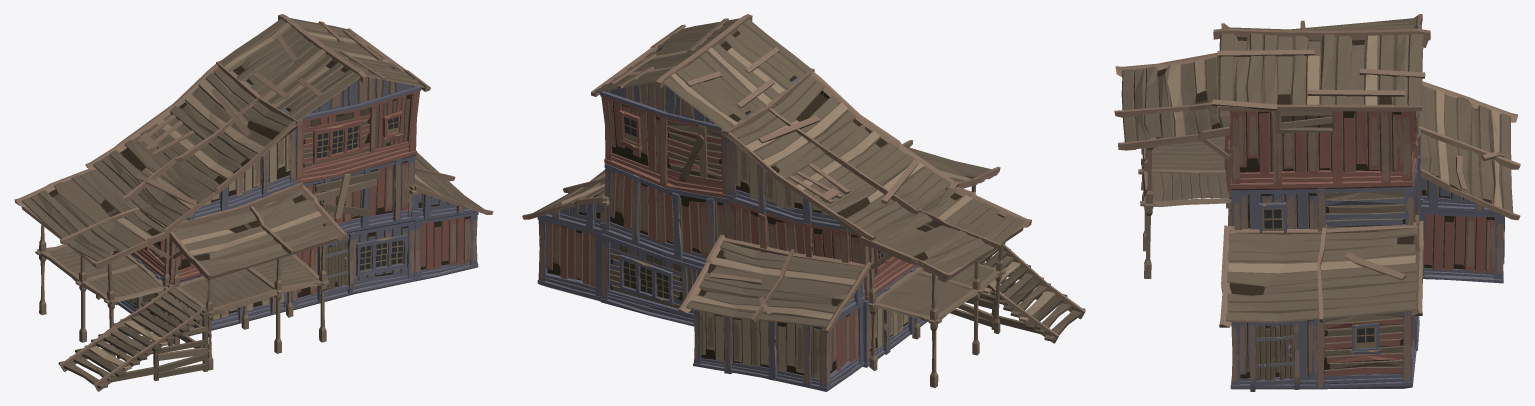
The model's file is SM_Bld_Shanty_Preset_03.glb.
The picture shows the model from 3 angles, left to right: view 1: azimuth 30°, elevation 25°; view 2: azimuth 150°, elevation 25°; view 3: azimuth 270°, elevation 25°; orthographic projection. The views are drawn at different scales.
Visible parts, largest first — view 1: SM_Bld_Shanty_Preset_03_part00; view 2: SM_Bld_Shanty_Preset_03_part00; view 3: SM_Bld_Shanty_Preset_03_part00.
Boxes of the visible parts, x1,y1,x2,y2 form: SM_Bld_Shanty_Preset_03_part00: (14, 14, 493, 391); SM_Bld_Shanty_Preset_03_part00: (522, 14, 1085, 391); SM_Bld_Shanty_Preset_03_part00: (1114, 14, 1520, 391).
Bounding box in the file's own units: 17.21 × 8.94 × 11.14.
Materials: 1 (1 with a texture image).
